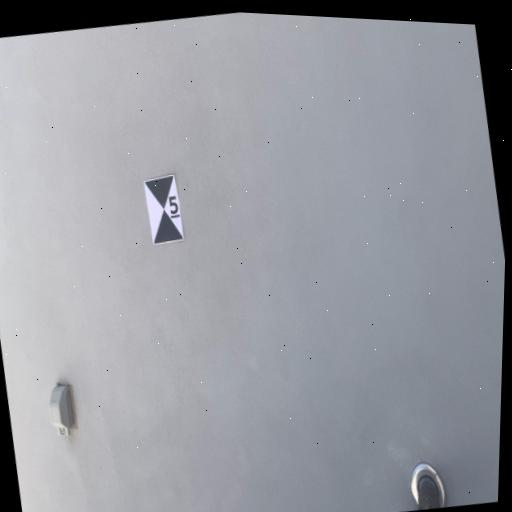target5: (142, 174, 187, 240)
